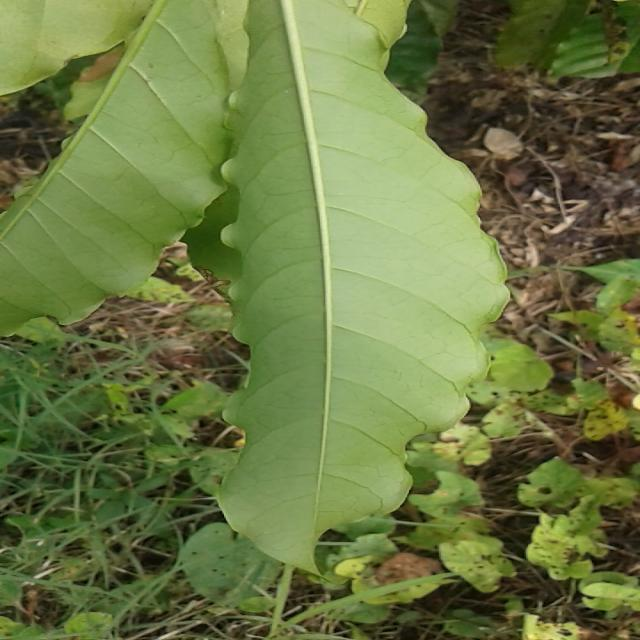Sanas: (182, 0, 510, 580)
